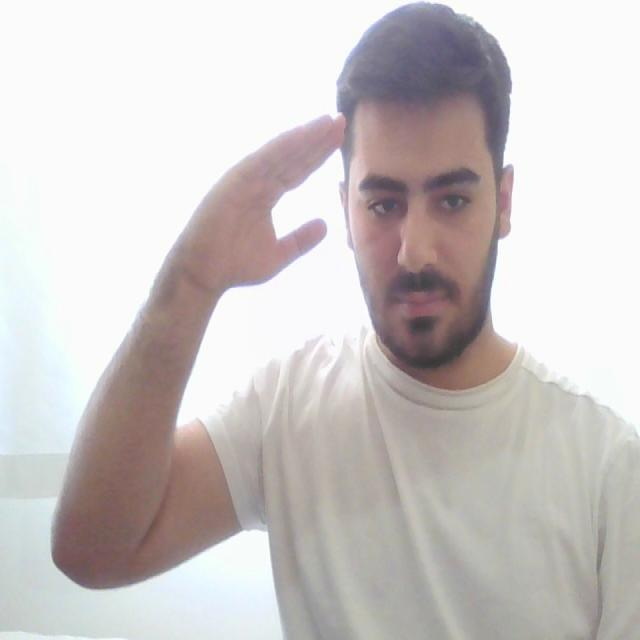Merhaba: (174, 58, 389, 334)
